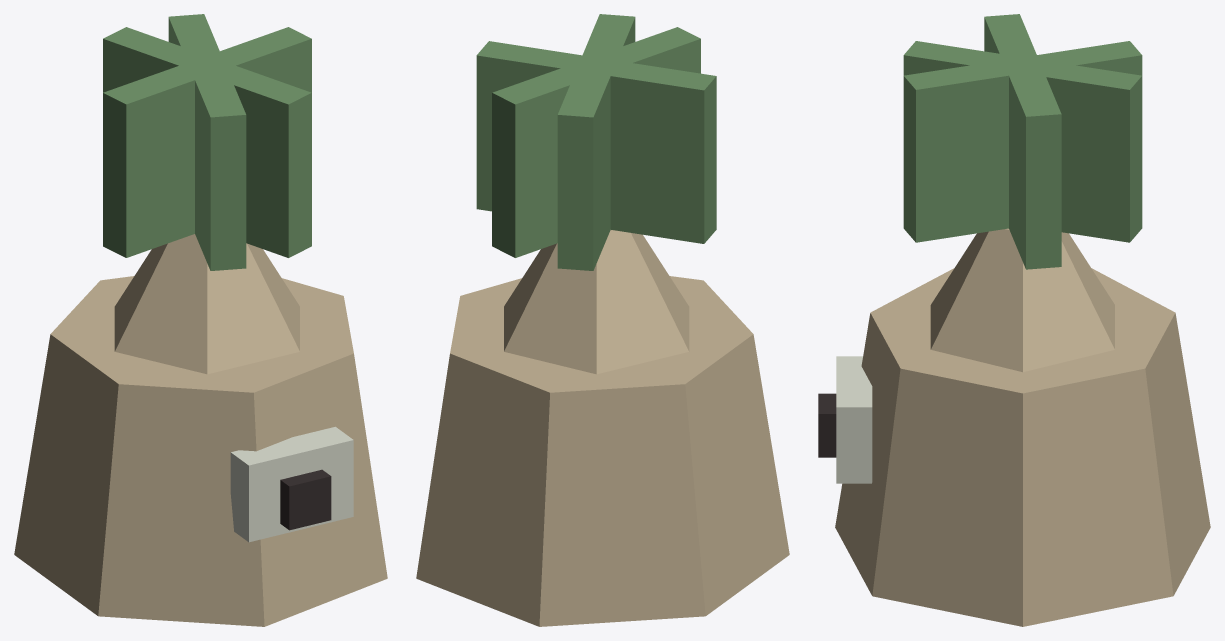
File: hs_eyeroot.glb
3 views of the same model, side by side, from view 1: azimuth 30°, elevation 25°; view 2: azimuth 150°, elevation 25°; view 3: azimuth 270°, elevation 25° (orthographic).
Visible parts, largest first — view 1: hs_eyeroot; view 2: hs_eyeroot; view 3: hs_eyeroot.
Boxes of the visible parts, x1,y1,x2,y2 form: hs_eyeroot: [14, 14, 387, 626]; hs_eyeroot: [416, 14, 789, 626]; hs_eyeroot: [818, 14, 1210, 626].
Size of the model in its own units: 0.3042 by 0.44 by 0.326.
